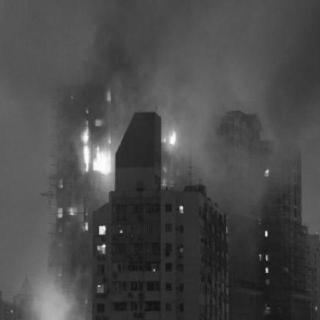Fire: (64, 78, 194, 188)
